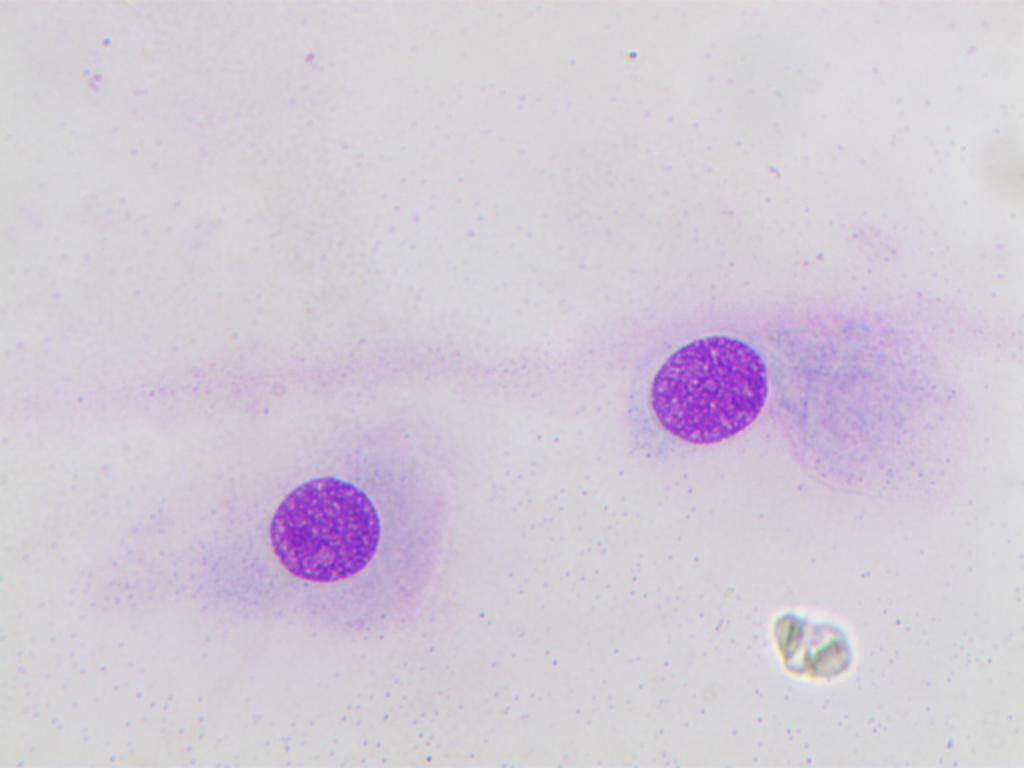artifact: (758, 593, 880, 699)
epithelial: (635, 312, 790, 457), (253, 468, 404, 588)
